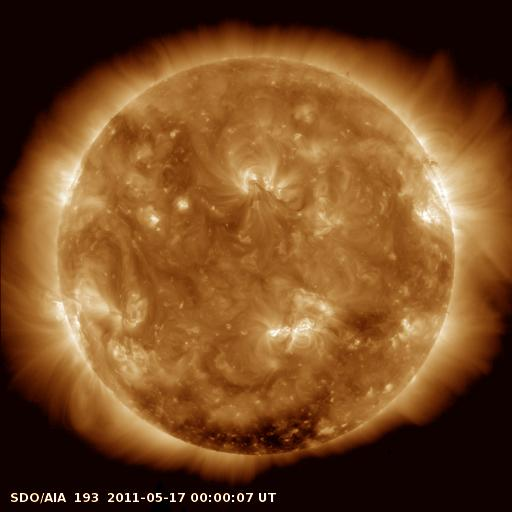coronal_hole: (154, 395, 328, 456)
